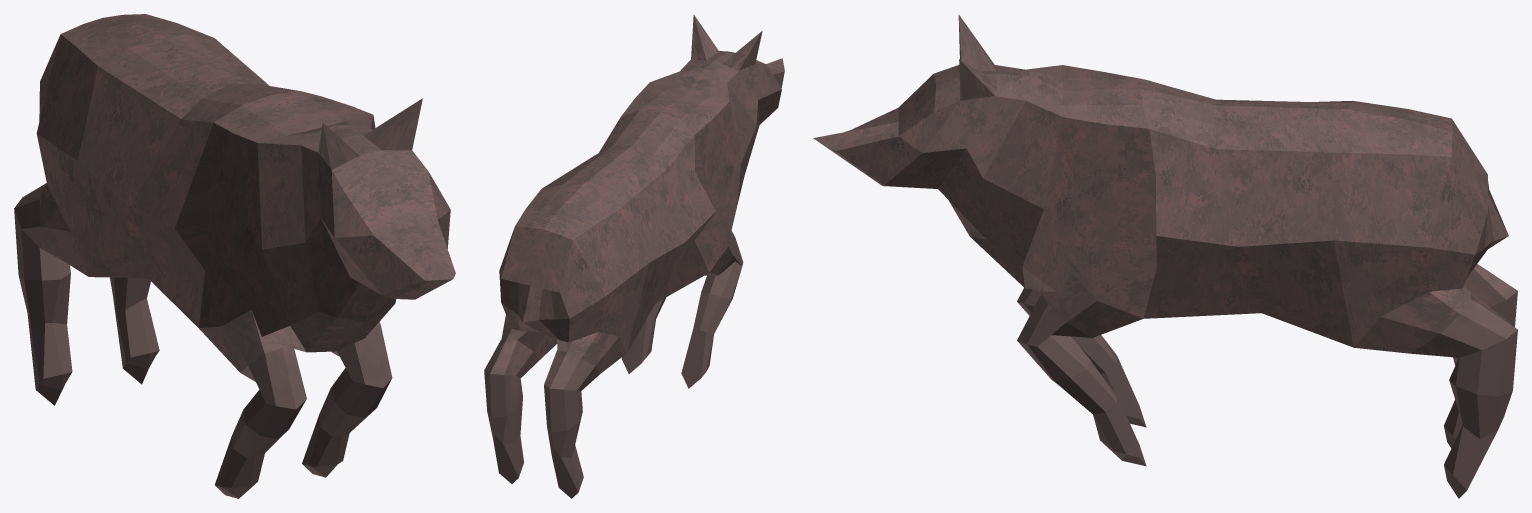
The model's file is piesblendtex_000026.obj.
The picture shows the model from 3 angles, left to right: view 1: azimuth 30°, elevation 25°; view 2: azimuth 150°, elevation 25°; view 3: azimuth 270°, elevation 25°; orthographic projection. The views are drawn at different scales.
Parts seen in each view (by area): view 1: Cube; view 2: Cube; view 3: Cube.
Boxes of the visible parts, x1,y1,x2,y2 form: Cube: (14, 14, 455, 498); Cube: (484, 14, 784, 498); Cube: (813, 14, 1517, 498).
Bounding box in the file's own units: 2.56 × 6.66 × 9.59.
